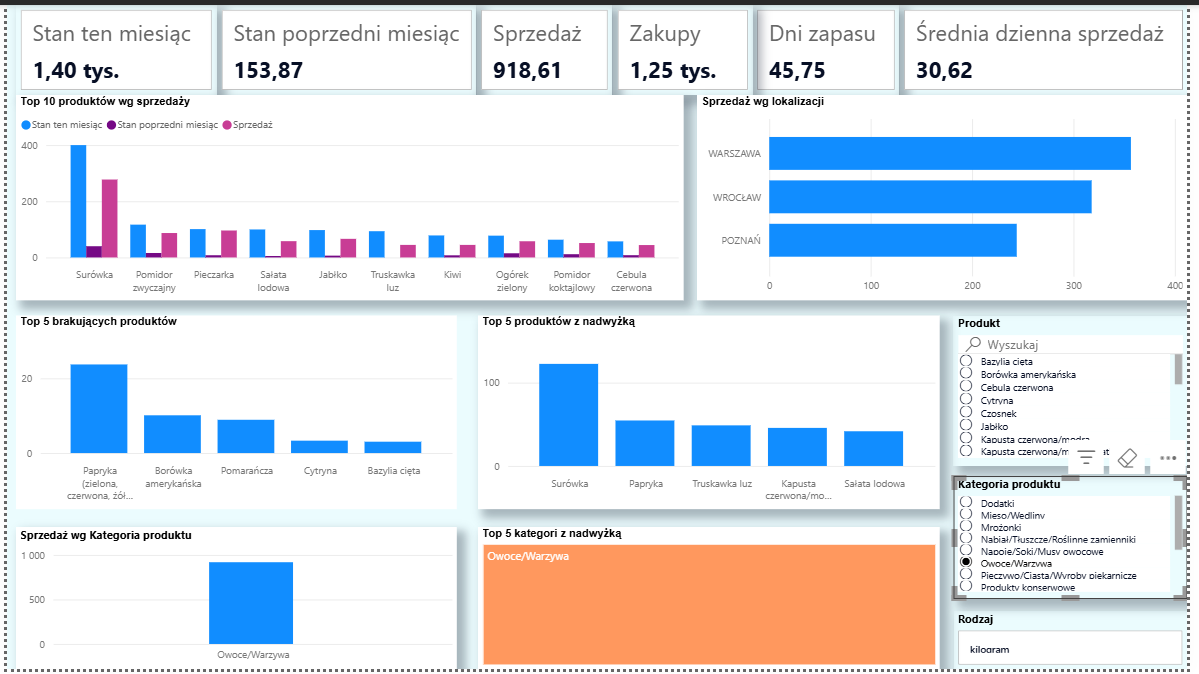

The page's visual inventory and layout, read from the dashboard file:
{"tool":"powerbi","page":{"name":"Strona 1","canvas":[1280,720],"ordinal":0},"visuals":[{"type":"cardVisual","fields":{"Data":["Tabela.Stan ten miesiąc"]},"box":[9.8,0,218,97.6],"z":0},{"type":"cardVisual","fields":{"Data":["Tabela.Stan poprzedni miesiąc"]},"box":[227.7,0,281.4,97.6],"z":1000},{"type":"cardVisual","fields":{"Data":["Tabela.Sprzedaż"]},"box":[509.9,0,147.4,97.6],"z":2000},{"type":"cardVisual","fields":{"Data":["Tabela.Dni zapasu"]},"box":[808.6,0,159.3,97.6],"z":3000},{"type":"cardVisual","fields":{"Data":["Tabela.Średnia dzienna sprzedaż"]},"box":[968,0,312.7,97.6],"z":4000},{"type":"cardVisual","fields":{"Data":["Tabela.Zakupy"]},"box":[657.3,0,151.4,97.6],"z":5000},{"type":"clusteredColumnChart","title":"Top 10 produktów wg sprzedaży","fields":{"Category":["Tabela.Produkt"],"Y":["Tabela.Stan ten miesiąc","Tabela.Stan poprzedni miesiąc","Tabela.Sprzedaż"]},"box":[9.8,97.6,723.8,222.8],"z":6000},{"type":"clusteredBarChart","title":"Sprzedaż wg lokalizacji","fields":{"Category":["Tabela.Lokalizacja"],"Y":["Tabela.Sprzedaż"]},"box":[748.2,97.6,531.9,222.8],"z":7000},{"type":"clusteredColumnChart","title":"Top 5 brakujących produktów","fields":{"Category":["Tabela.Produkt"],"Y":["Tabela.Brak"]},"box":[9.8,336.7,478.2,209.8],"z":8000},{"type":"clusteredColumnChart","title":"Top 5 produktów z nadwyżką","fields":{"Category":["Tabela.Produkt"],"Y":["Tabela.Nadwyżka"]},"box":[510.7,336.7,501,209.8],"z":9000},{"type":"listSlicer","fields":{"Values":["Tabela.Produkt"]},"box":[1026.3,336.7,253.7,162.7],"z":10000},{"type":"advancedSlicerVisual","fields":{"Values":["Tabela.Rodzaj"]},"box":[1026.3,657.1,253.7,63.4],"z":11000},{"type":"listSlicer","fields":{"Values":["Tabela.Kategoria produktu"]},"box":[1026.3,510.7,253.7,133.4],"z":12000},{"type":"clusteredColumnChart","fields":{"Category":["Tabela.Kategoria produktu"],"Y":["Tabela.Sprzedaż"]},"box":[9.8,566,478.2,154.5],"z":13000},{"type":"treemap","title":"Top 5 kategori z nadwyżką","fields":{"Group":["Tabela.Kategoria produktu"],"Values":["Tabela.Nadwyżka"]},"box":[510.7,566,501,154.5],"z":14000}]}

Visuals, with their boxes in screenshot pixels (x1, y1, x2, y2), scaled from the page's 1280x720 canvas onto the 1199x674 screenshot:
cardVisual - Tabela.Stan ten miesiąc: (9,0,213,91)
cardVisual - Tabela.Stan poprzedni miesiąc: (213,0,477,91)
cardVisual - Tabela.Sprzedaż: (478,0,616,91)
cardVisual - Tabela.Dni zapasu: (757,0,907,91)
cardVisual - Tabela.Średnia dzienna sprzedaż: (907,0,1198,91)
cardVisual - Tabela.Zakupy: (616,0,758,91)
"Top 10 produktów wg sprzedaży" clusteredColumnChart: (9,91,687,300)
"Sprzedaż wg lokalizacji" clusteredBarChart: (701,91,1198,300)
"Top 5 brakujących produktów" clusteredColumnChart: (9,315,457,512)
"Top 5 produktów z nadwyżką" clusteredColumnChart: (478,315,948,512)
listSlicer - Tabela.Produkt: (961,315,1198,467)
advancedSlicerVisual - Tabela.Rodzaj: (961,615,1198,673)
listSlicer - Tabela.Kategoria produktu: (961,478,1198,603)
clusteredColumnChart - Tabela.Kategoria produktu x Tabela.Sprzedaż: (9,530,457,673)
"Top 5 kategori z nadwyżką" treemap: (478,530,948,673)
